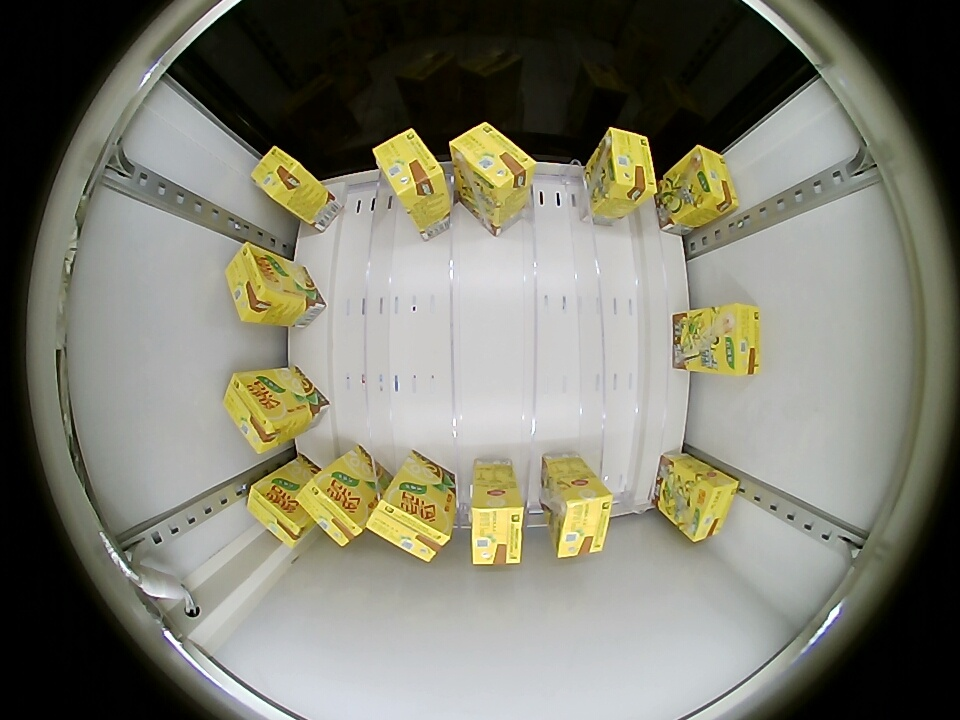weitaningmeng: (364, 487, 455, 563), (451, 121, 535, 195), (374, 129, 450, 208), (223, 371, 289, 454), (550, 474, 613, 558), (296, 474, 368, 547), (227, 241, 288, 322), (471, 477, 525, 565), (246, 475, 311, 547), (599, 127, 656, 204), (680, 470, 739, 543), (250, 145, 316, 209), (684, 144, 739, 217), (715, 302, 761, 376)
